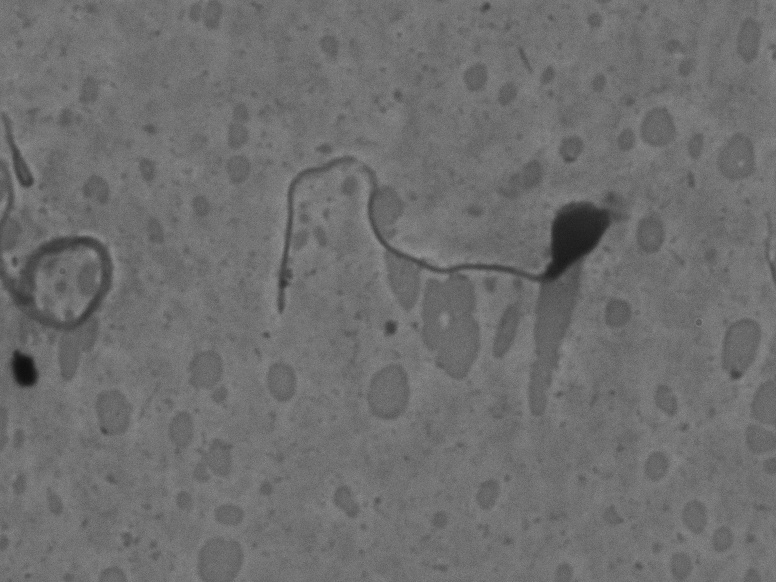Abnormal: (260, 121, 645, 359)
